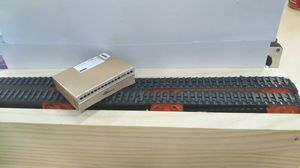box2: (50, 49, 136, 113)
